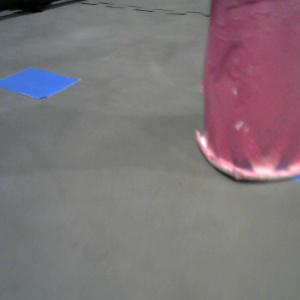Right: (196, 1, 300, 181)
